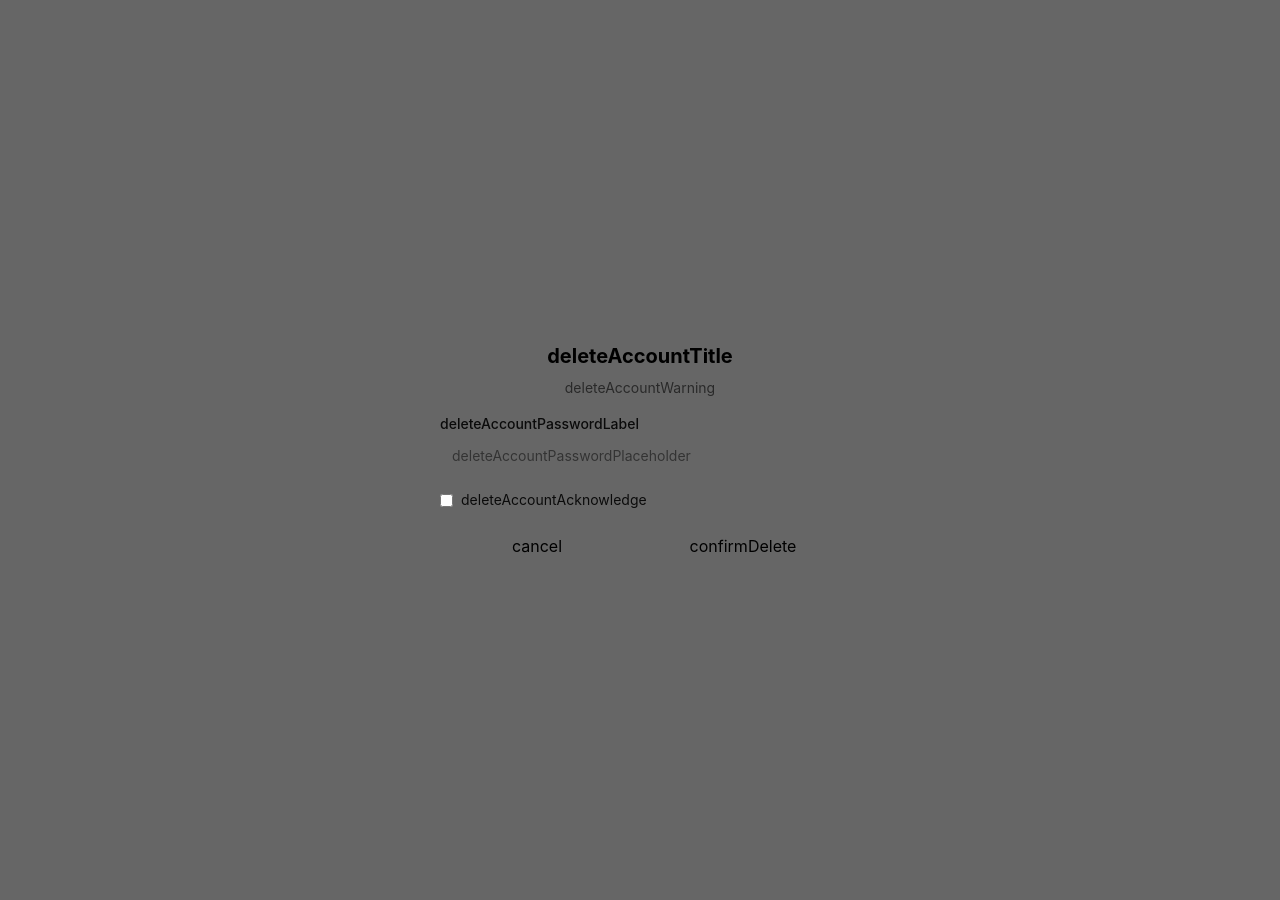
DeleteAccountModal › local: shows API error on verify failure without signing out
This screenshot has width=1280, height=900.
Type "pw" into the password field with placeholder "deleteAccountPasswordPlaceholder" at [640, 456], box [440, 438, 840, 474]
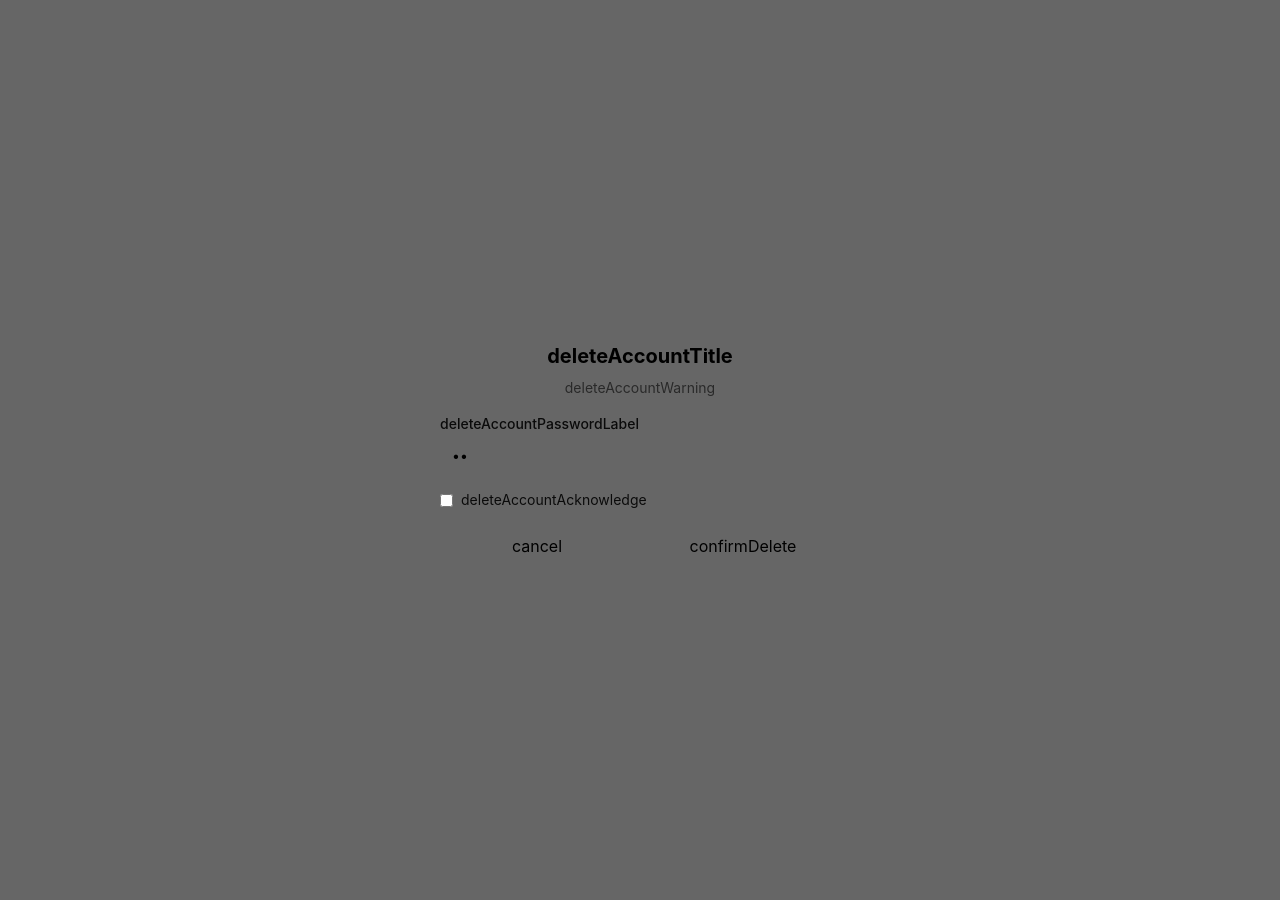
Click the checkbox at [446, 500], box [440, 494, 453, 507]
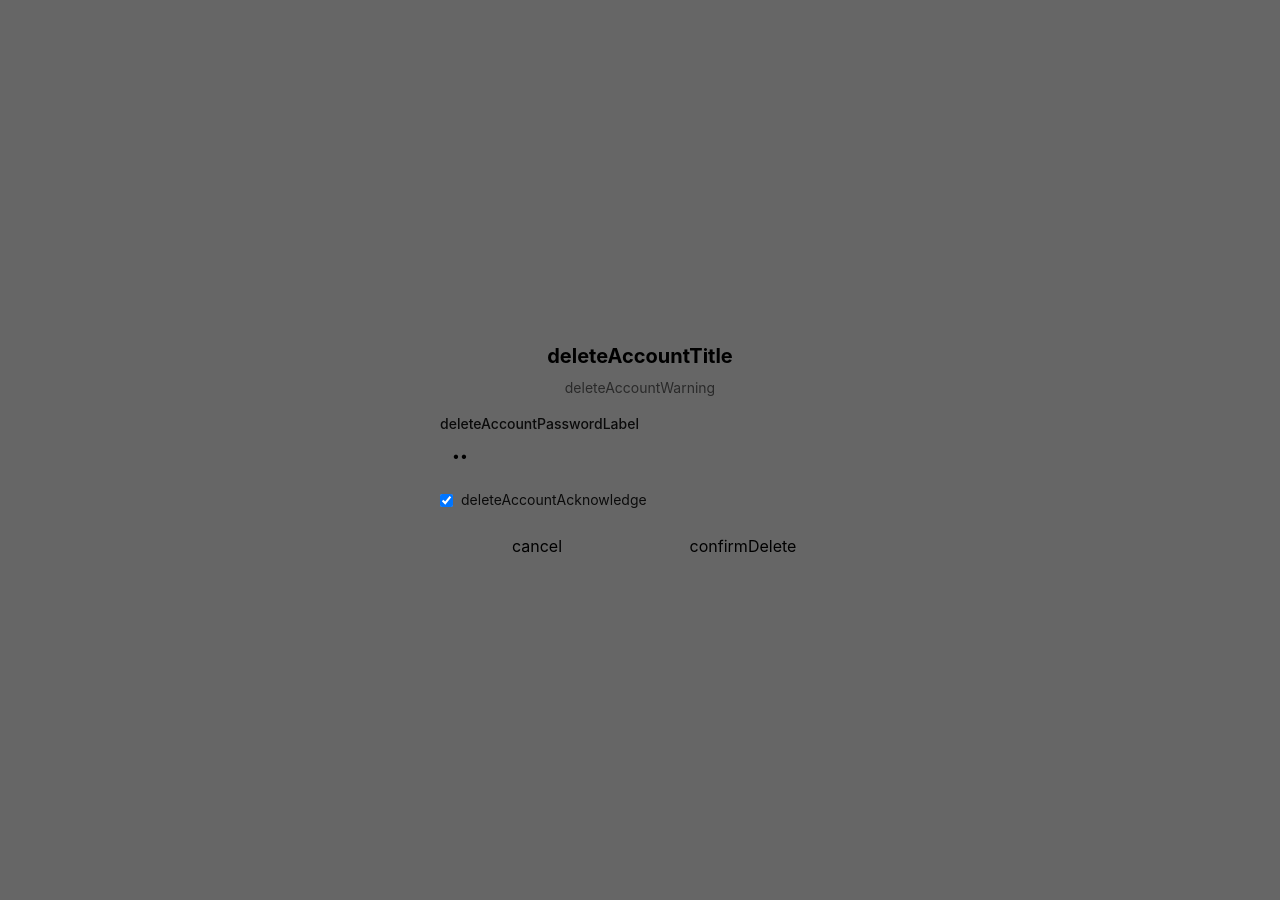
Click the button "confirmDelete" at [743, 546], box [646, 534, 840, 558]
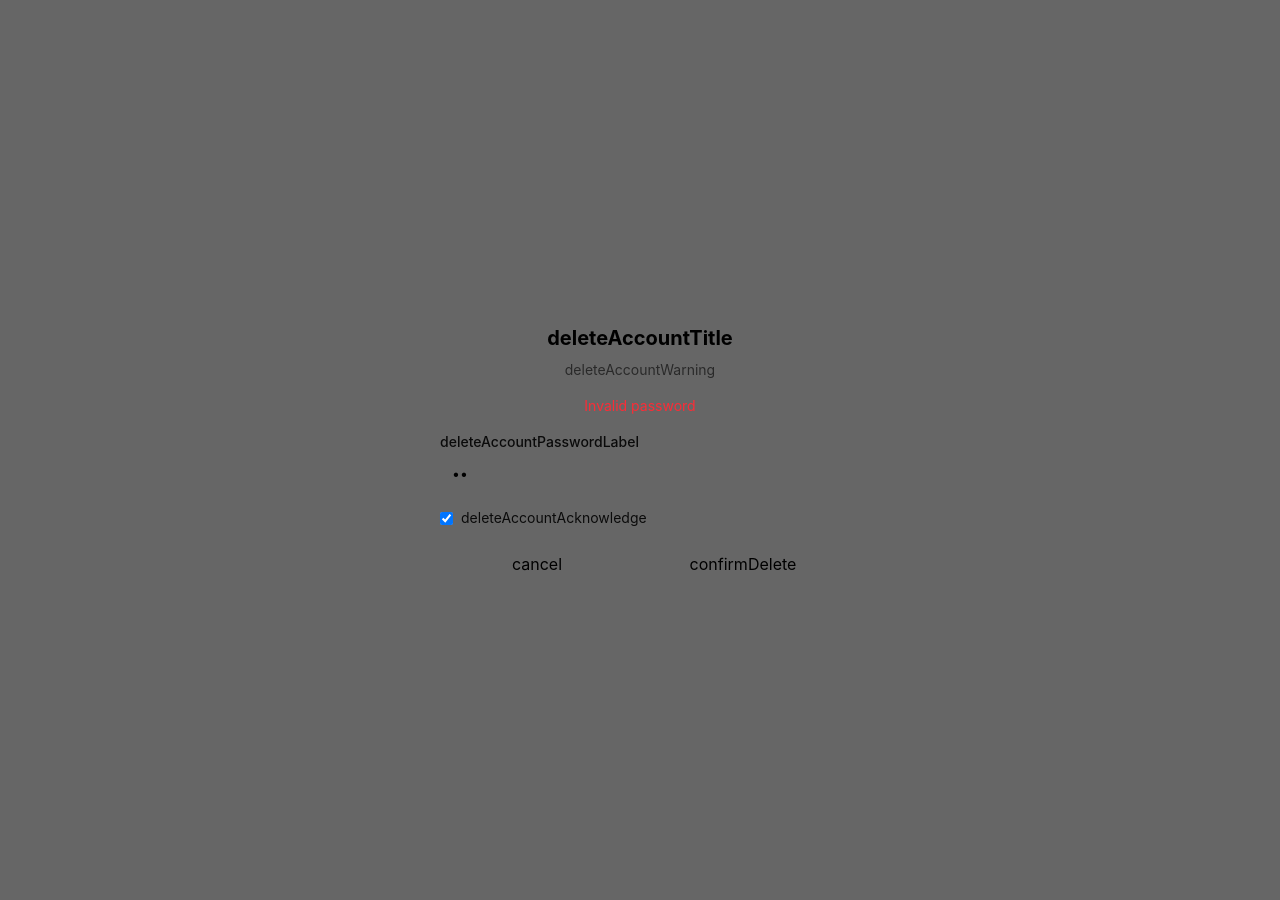
expect the text "Invalid password" is shown: met, box [584, 397, 696, 414]
